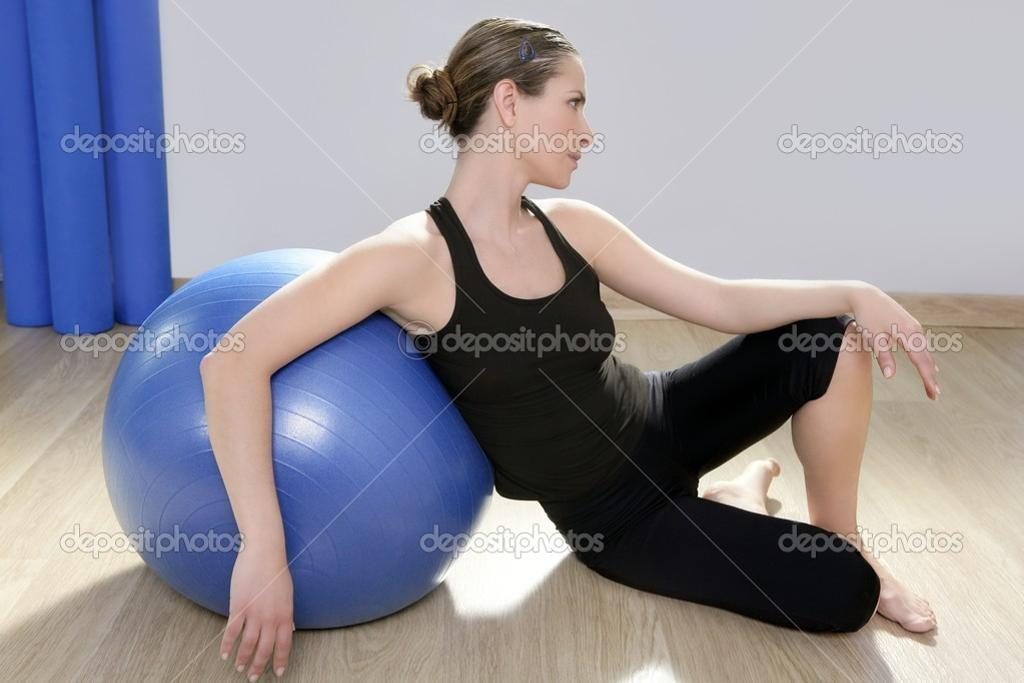face: (523, 55, 595, 189)
